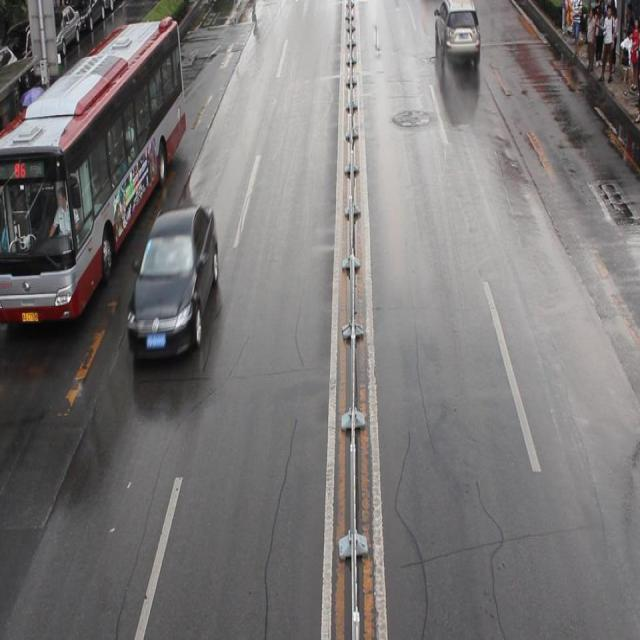car: (126, 202, 219, 356), (432, 1, 479, 59)
van: (1, 19, 185, 320)
